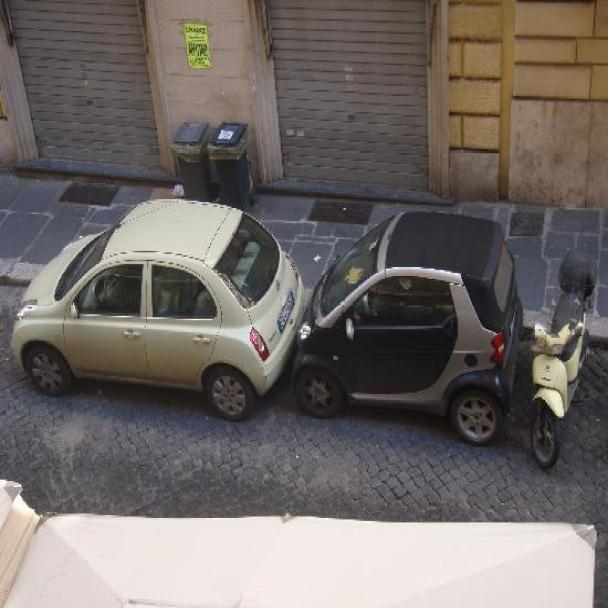Mobil: (11, 192, 294, 437), (295, 212, 526, 449)
